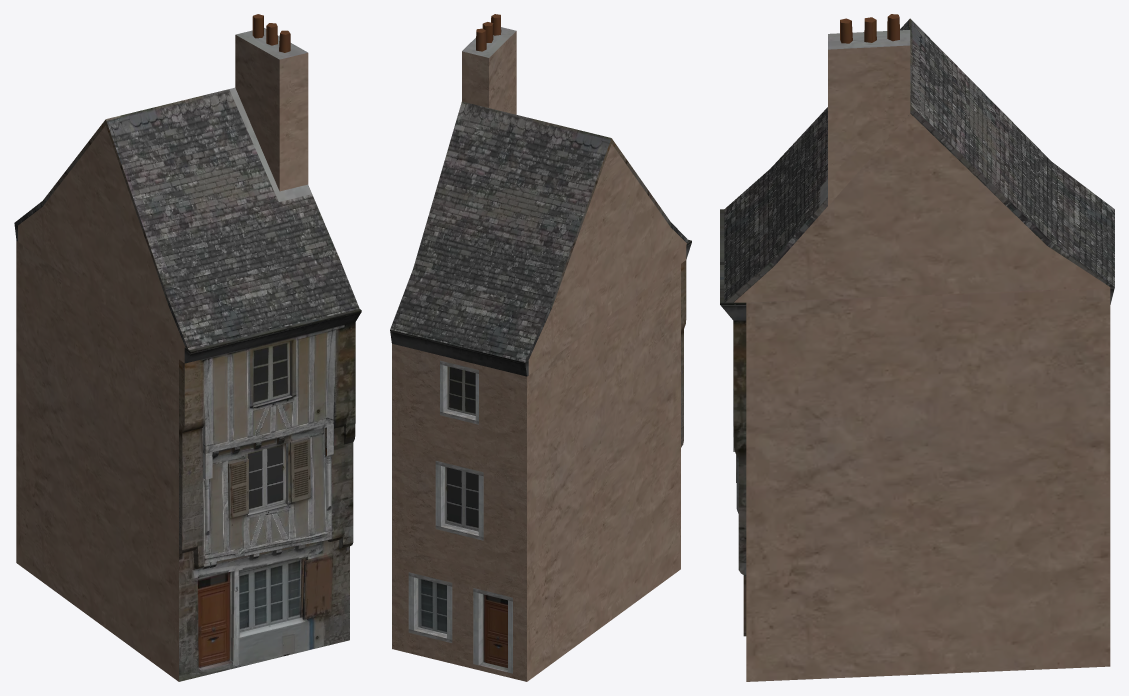
The model's file is lemansf.glb.
3 renders of one model, left to right at view 1: azimuth 30°, elevation 25°; view 2: azimuth 150°, elevation 25°; view 3: azimuth 270°, elevation 25°, orthographic. The views are drawn at different scales.
Parts seen in each view (by area): view 1: building_Main_0; view 2: building_Main_0; view 3: building_Main_0.
Boxes of the visible parts, left/top/right/bottom form: building_Main_0: left=14, top=14, right=361, bottom=681; building_Main_0: left=390, top=14, right=691, bottom=681; building_Main_0: left=720, top=14, right=1114, bottom=681.
Bounding box in the file's own units: 4.25 × 13.83 × 7.59.
Materials: 1 (1 with a texture image).
